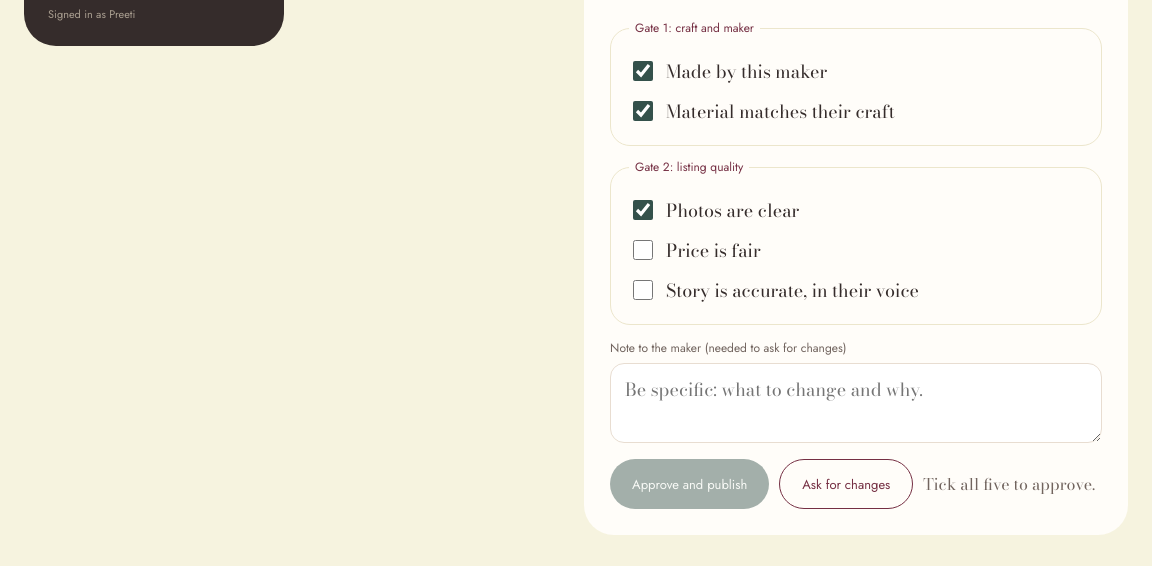
Test case: admin payout "Mark as paid" › reviews hydrate without errors and Approve enables only after all five checks
The image size is (1152, 566).
Later steps or results of the test are not shown.
(page scrolled)
What coordinates should you click on to do the following:
click the checkbox labelled "Price is fair"
I would click on:
 (643, 250)
Its box is [633,240,653,260].
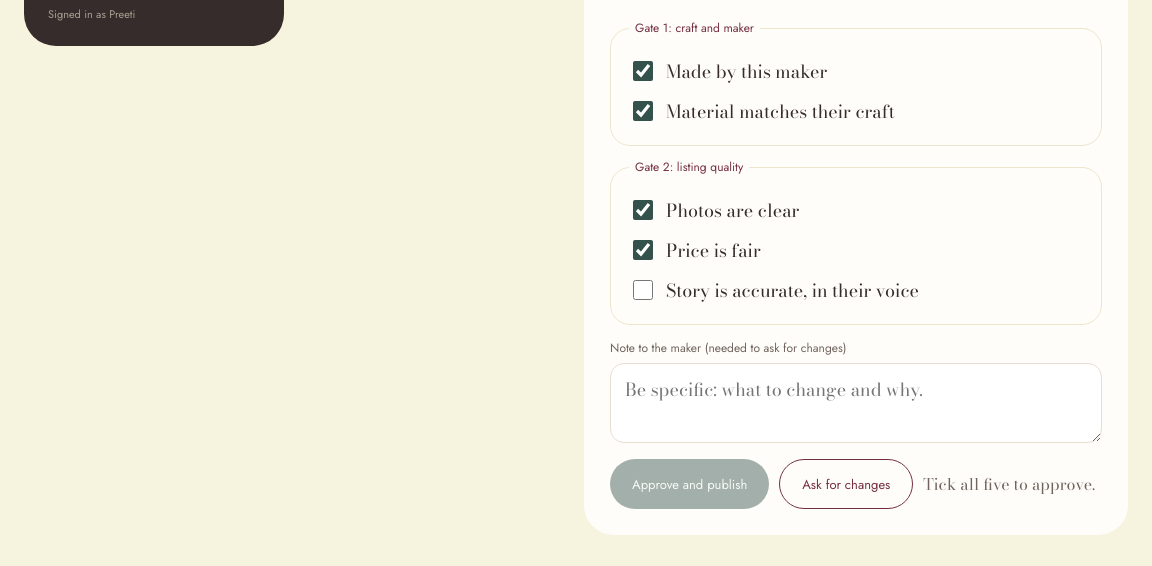
What coordinates should you click on to do the following:
click the checkbox labelled "Story is accurate, in their voice"
I would click on:
 (643, 290)
Its box is [633,280,653,300].
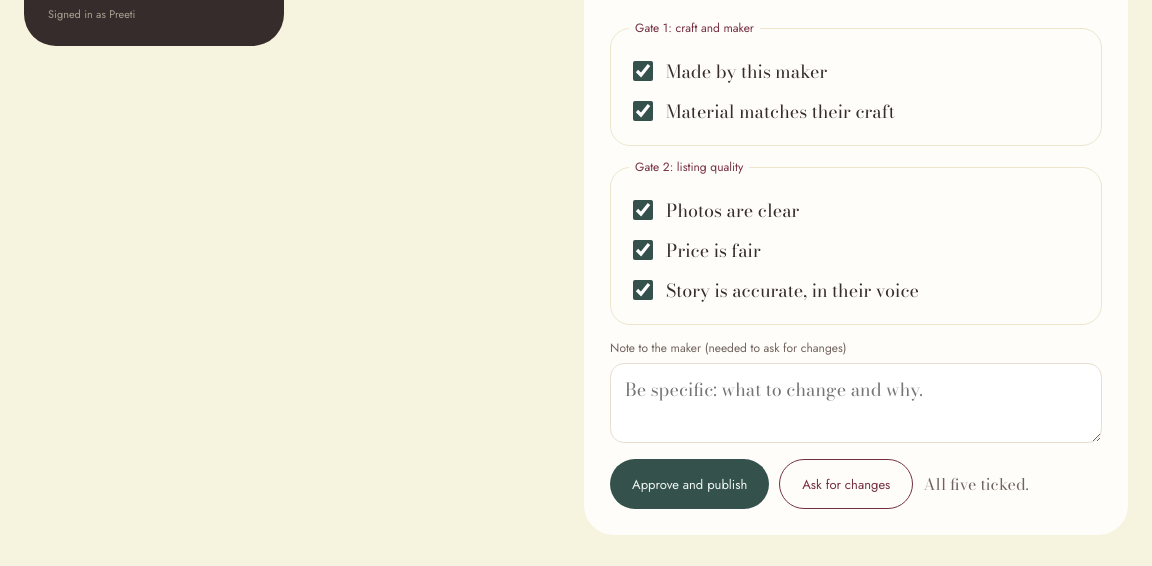
What coordinates should you click on to do the following:
click the button "Approve and publish"
I would click on:
 (690, 484)
Its box is [610,459,769,509].
(page scrolled)
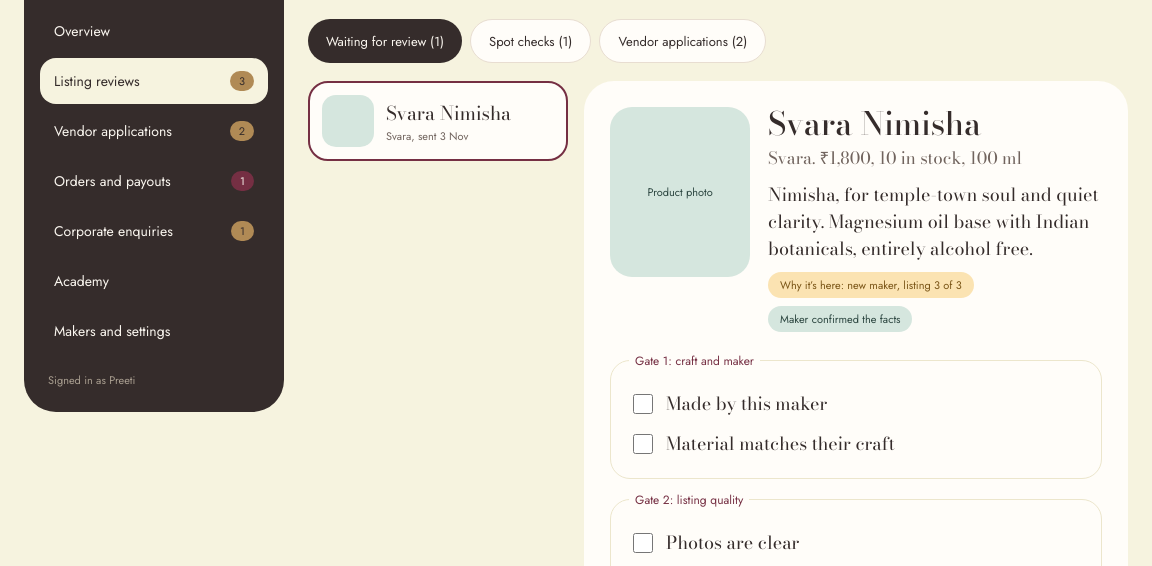
Check: the heading "Svara Nimisha" is shown, box [768,99,981,148]
